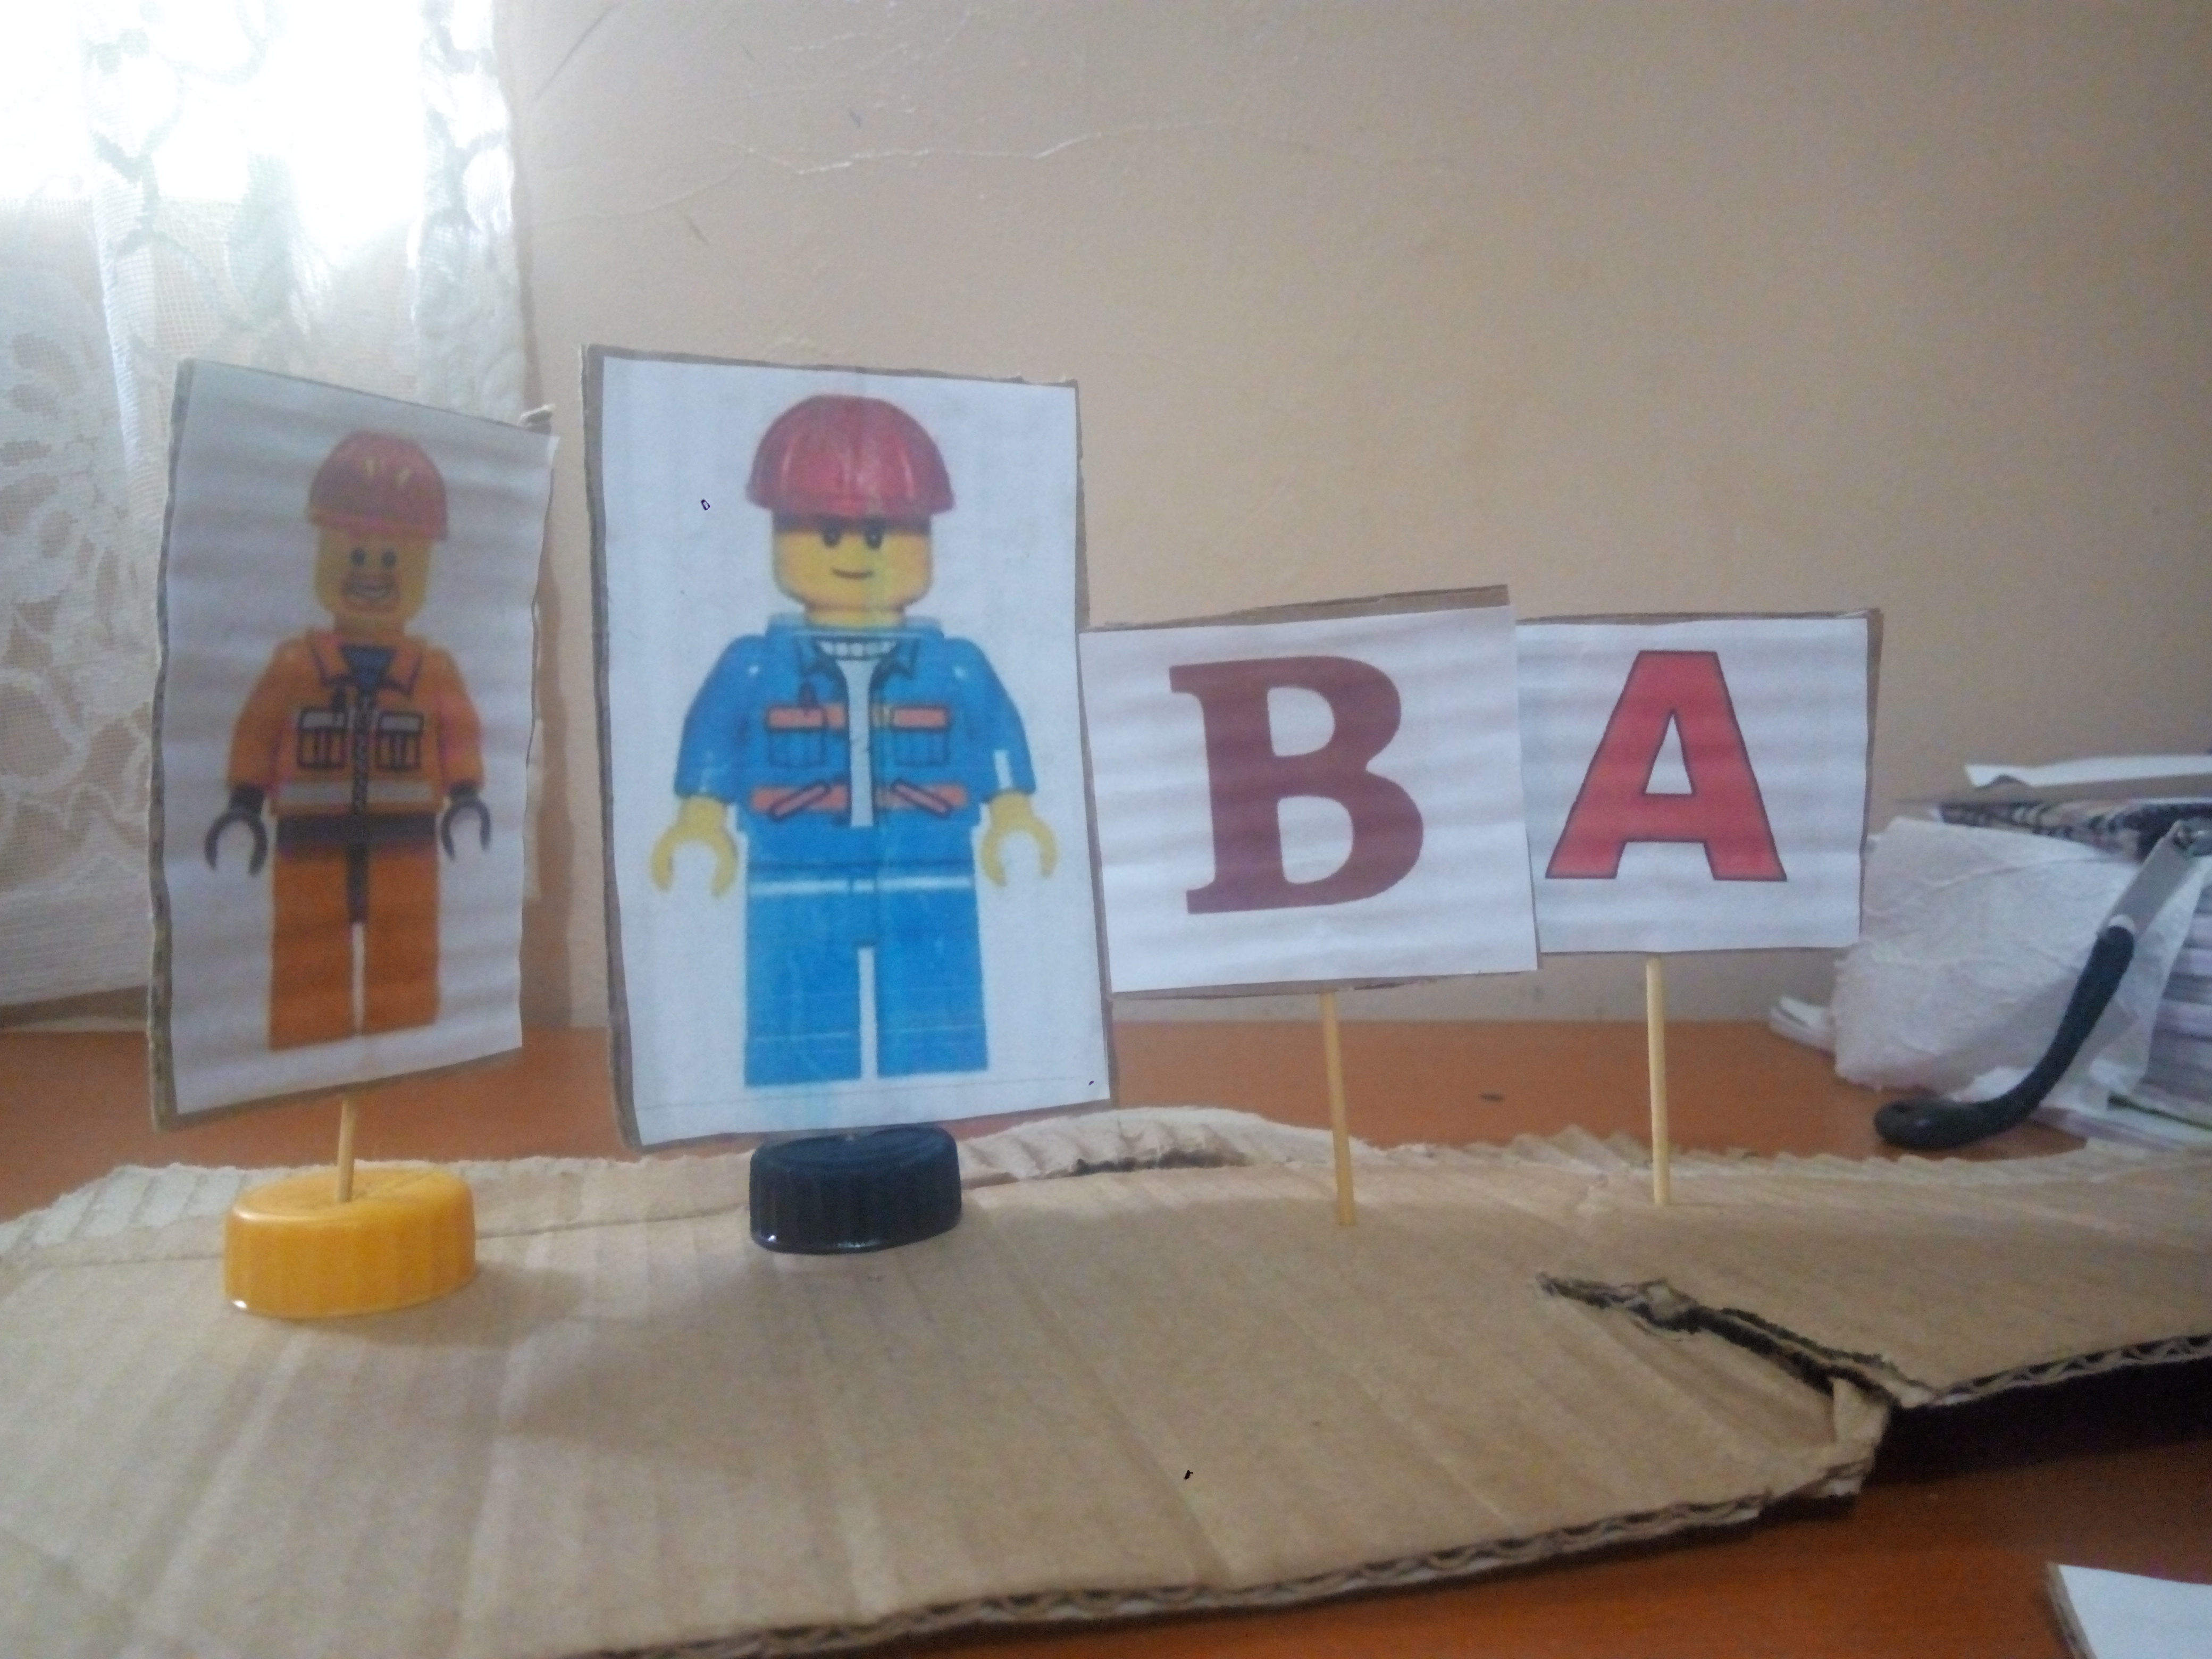pedestrian: (629, 384, 1071, 1109), (190, 391, 506, 1045)
zone A: (1539, 630, 1829, 926)
zone B: (1141, 643, 1467, 966)
